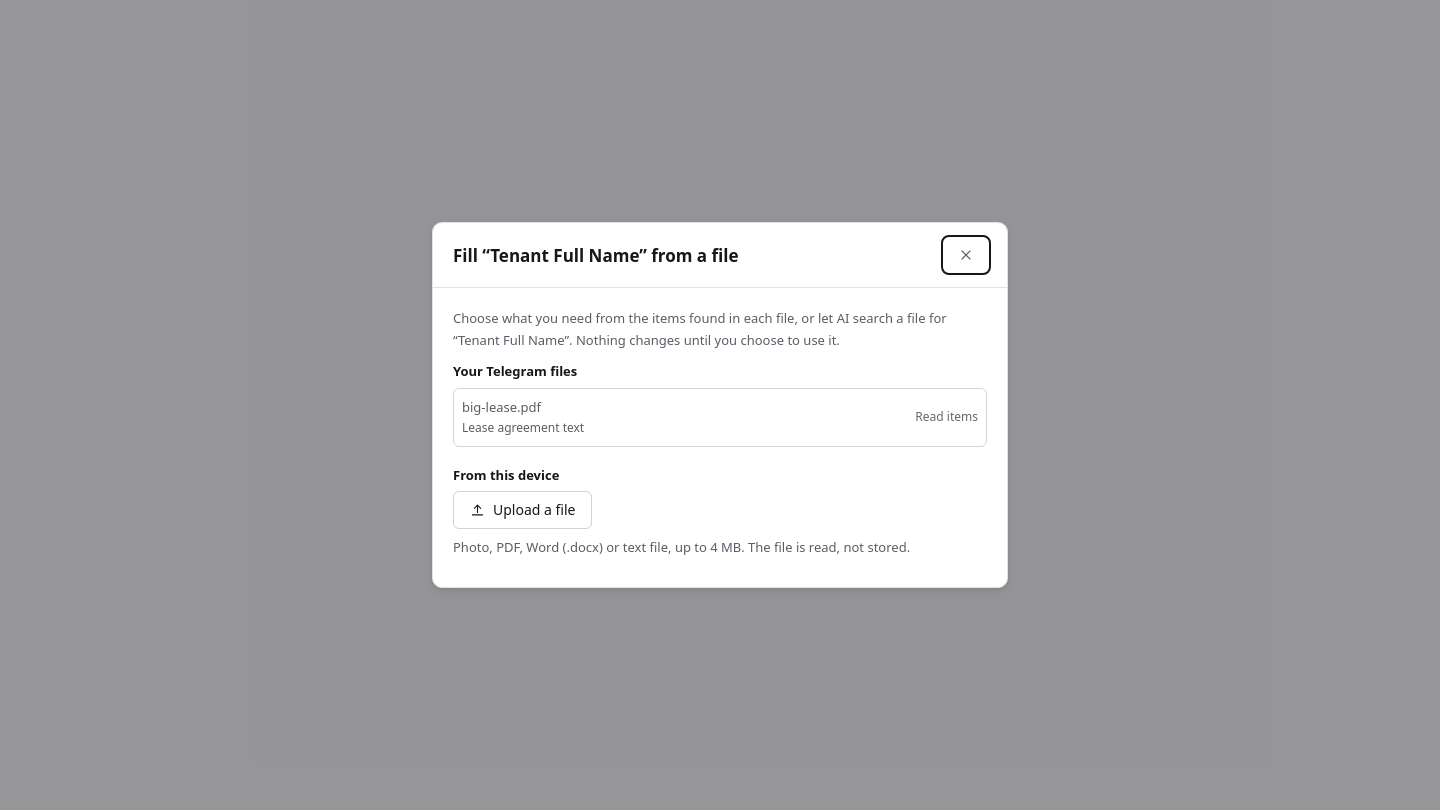
Scenario: FieldFileFillDialog with the items found in each file › reads the items of a bigger file when it is selected, then offers them in the dropdown
Later steps or results of the test are not shown.
Click the button "big-lease.pdf Lease agreement text Read items" at (502, 407), box [453,388,987,447]
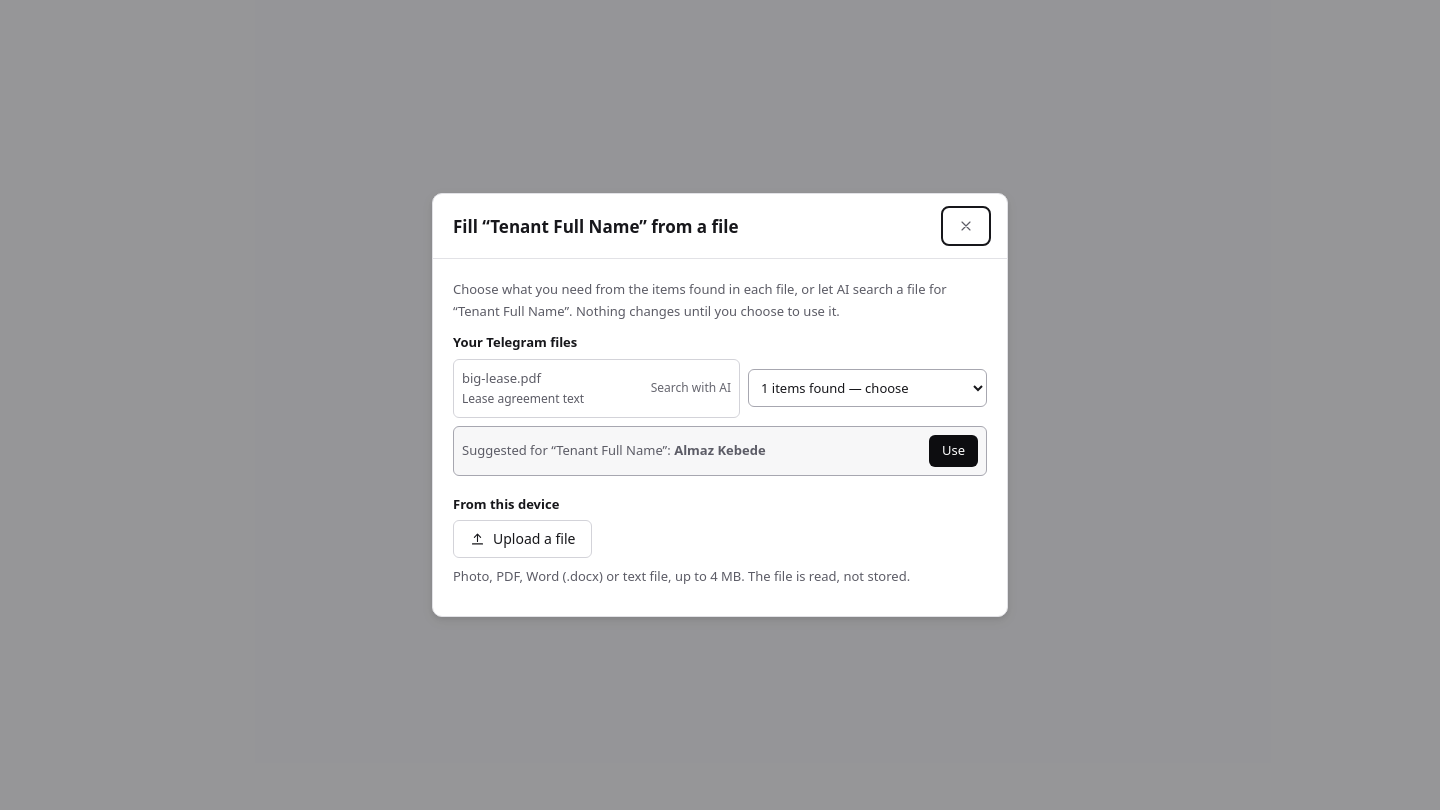
Now the element with test id "field-fill-suggested-f1" shows "Almaz Kebede", box [674,441,766,459]
Now the button "big-lease.pdf Lease agreement text Search with AI" is shown, box [453,359,740,418]
